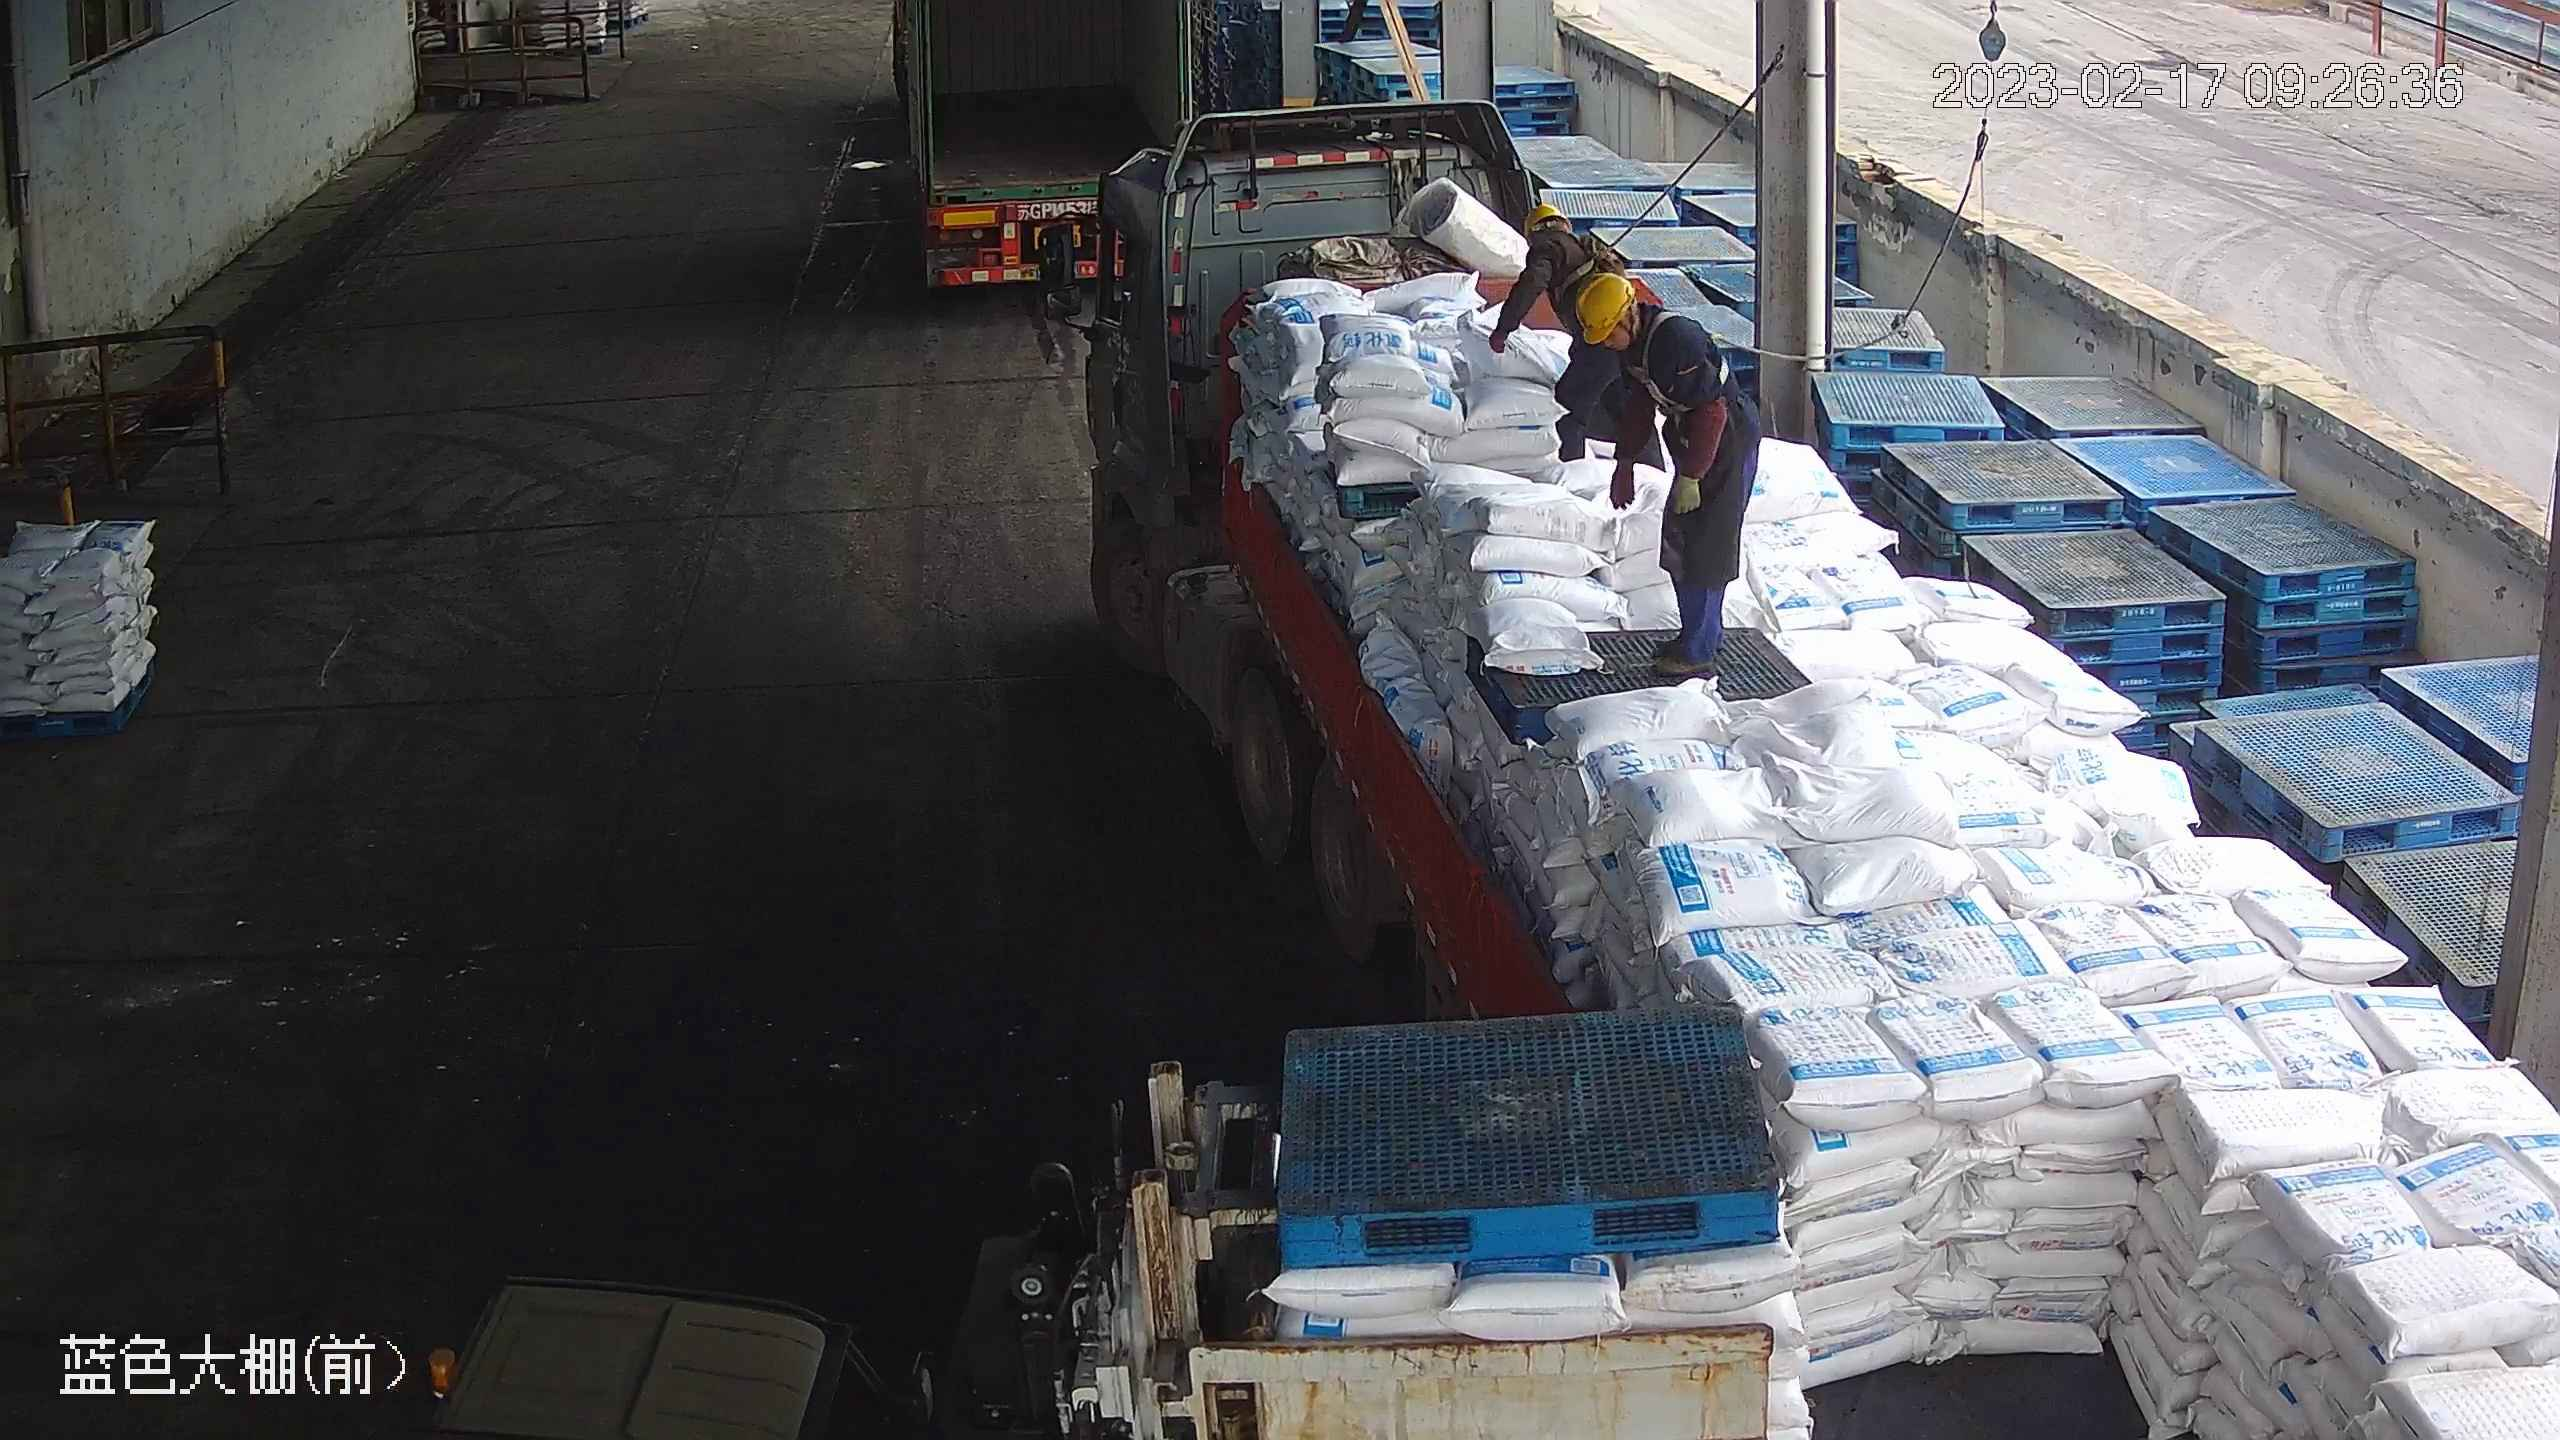belt: (1623, 305, 1722, 402), (1552, 224, 1618, 278)
head: (1573, 272, 1708, 385), (1518, 198, 1602, 273)
helmet: (1574, 271, 1635, 343), (1524, 201, 1568, 234)
people: (1573, 273, 1761, 678), (1481, 203, 1627, 484)
truck: (1066, 90, 2553, 1440), (885, 1, 1202, 302)
